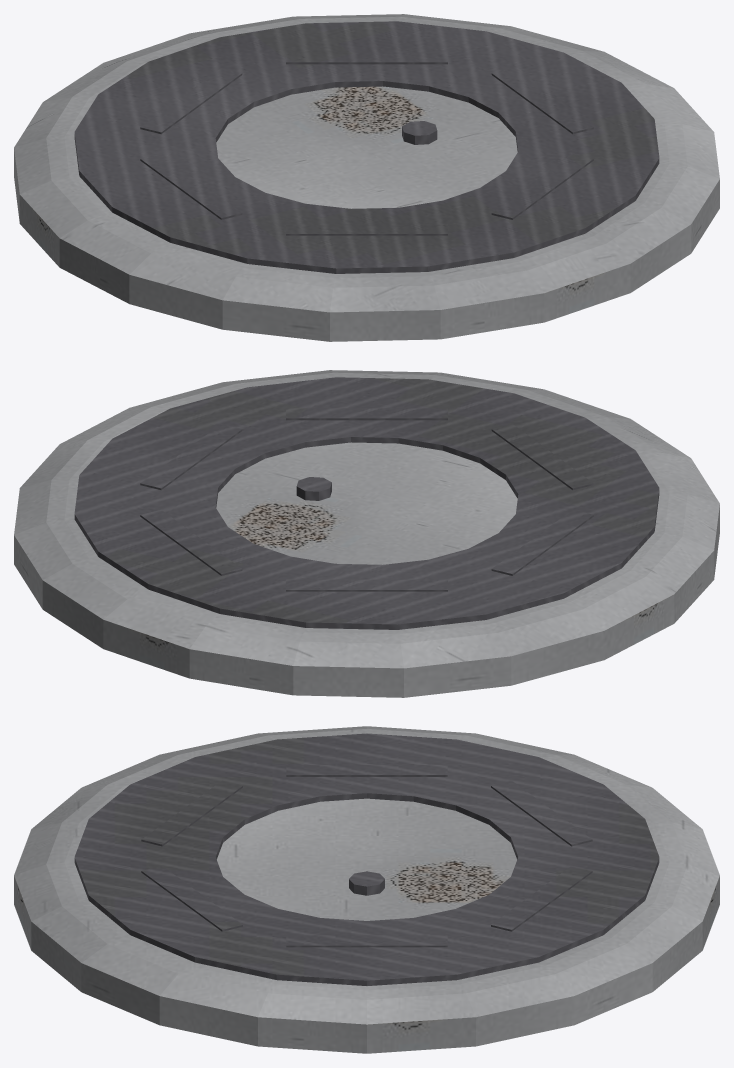
The model's file is manhole.glb.
The picture shows the model from 3 angles, top to bottom: view 1: azimuth 30°, elevation 25°; view 2: azimuth 150°, elevation 25°; view 3: azimuth 270°, elevation 25°; orthographic projection.
Visible parts, largest first — view 1: NC_manhole; view 2: NC_manhole; view 3: NC_manhole.
Boxes of the visible parts, x1,y1,x2,y2 form: NC_manhole: (14, 14, 719, 341); NC_manhole: (14, 370, 719, 697); NC_manhole: (14, 726, 719, 1053).
Size of the model in its own units: 0.7 by 0.056 by 0.7.
2 materials, 2 textured.
